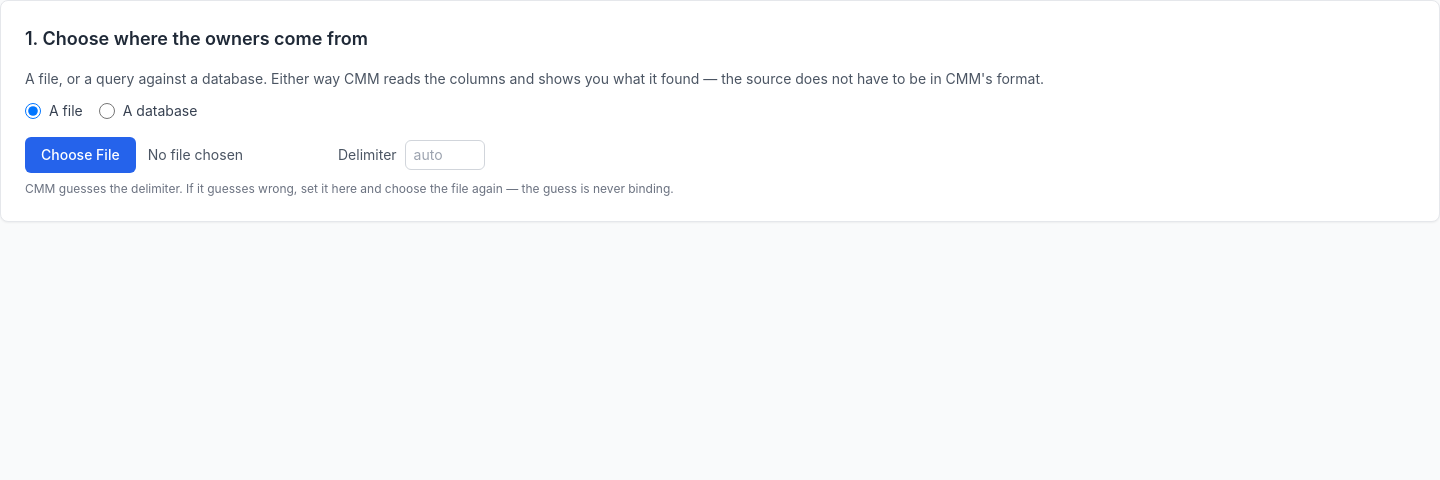
Scenario: importing owners from a database › says so when the connections cannot be loaded
The image size is (1440, 480).
Step 1. Click the radio button labelled "A database" → (107, 111), box [99,103,115,119]
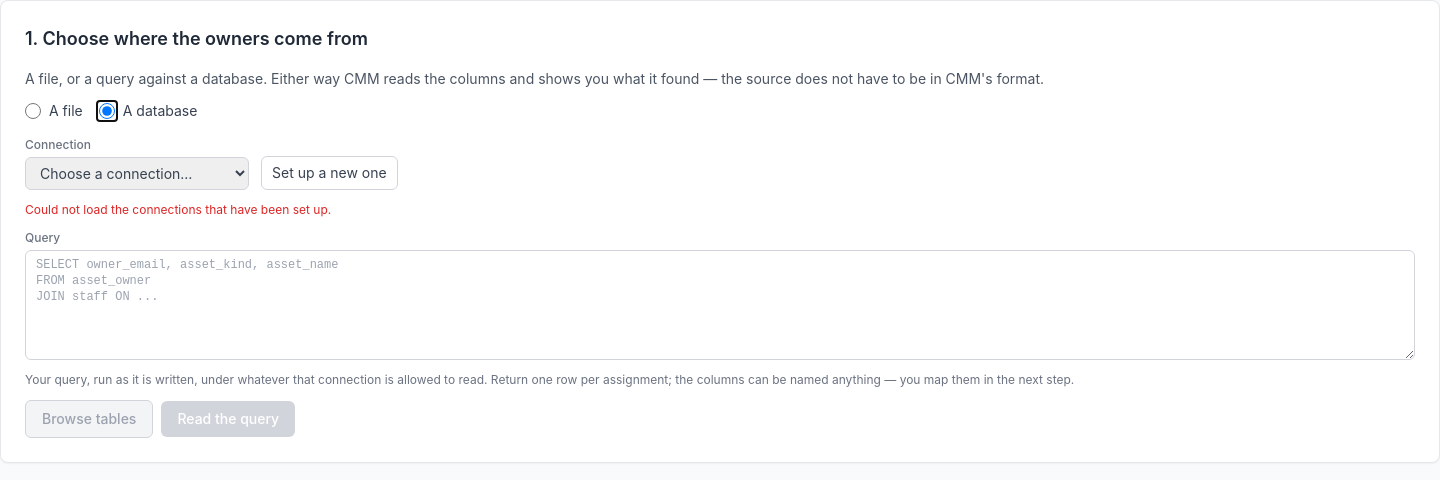
Expected: the text "Could not load the connections that have been set up." is shown, [25,202,331,217]
